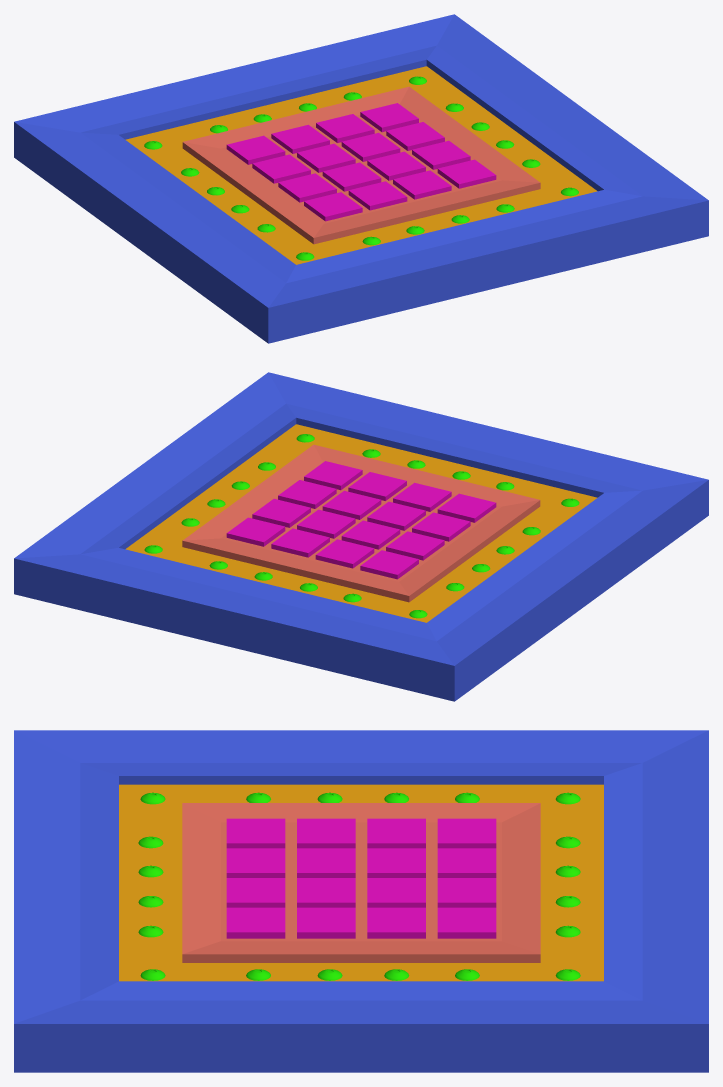
The model's file is FloorV2UVID.fbx.
The picture shows the model from 3 angles, top to bottom: view 1: azimuth 30°, elevation 25°; view 2: azimuth 150°, elevation 25°; view 3: azimuth 270°, elevation 25°; orthographic projection. The views are drawn at different scales.
Parts seen in each view (by area): view 1: Floor.001, Buttons; view 2: Floor.001, Buttons; view 3: Floor.001, Buttons.
Part boxes in pixels (bbox=[...]): Floor.001: bbox=[14, 14, 708, 343]; Buttons: bbox=[144, 76, 578, 260]; Floor.001: bbox=[14, 372, 708, 701]; Buttons: bbox=[144, 434, 579, 618]; Floor.001: bbox=[14, 730, 708, 1072]; Buttons: bbox=[138, 792, 580, 980].
Bounding box in the file's own units: 983 × 78.7 × 983.
